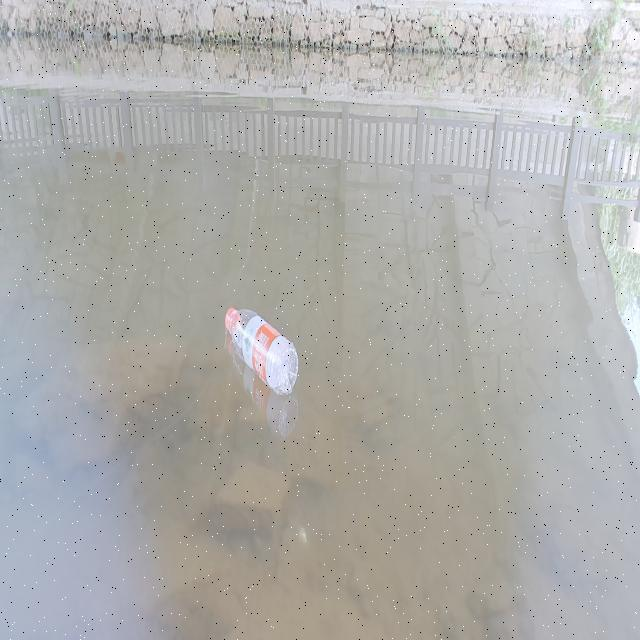Bottle: (222, 301, 300, 397)
